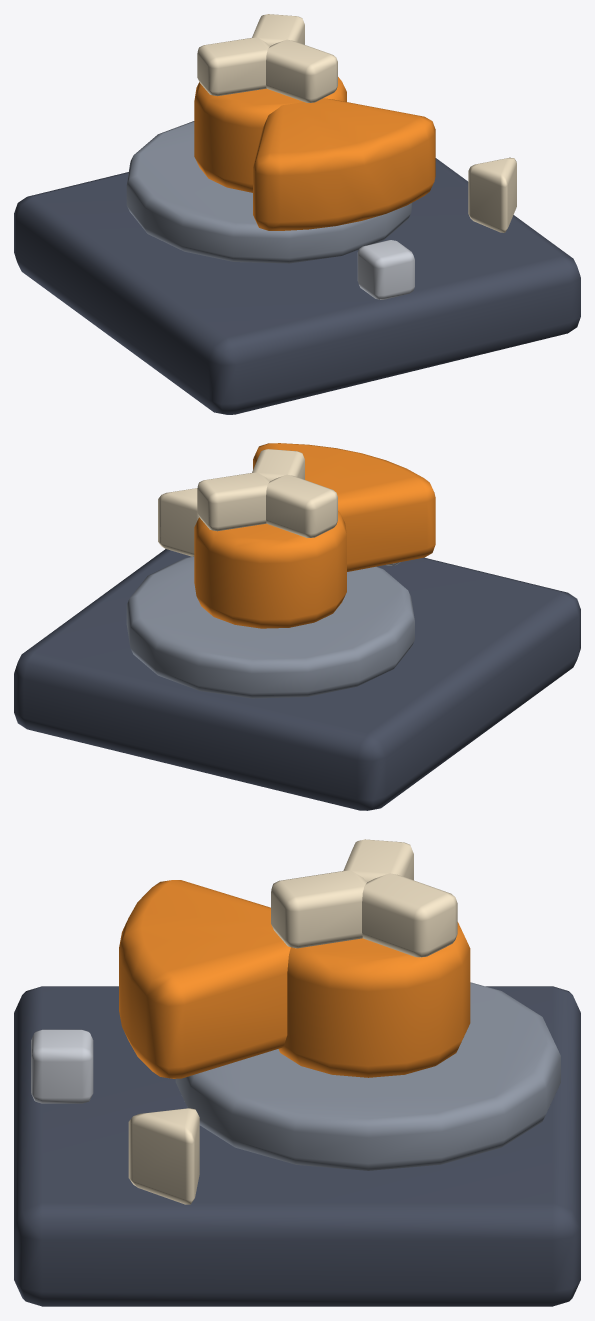
Rendered from Ctrl_Stir.fbx.
3 renders of one model, top to bottom at view 1: azimuth 30°, elevation 25°; view 2: azimuth 150°, elevation 25°; view 3: azimuth 270°, elevation 25°, orthographic. The views are drawn at different scales.
Parts seen in each view (by area): view 1: Ctrl_Stir.Base, Ctrl_Stir.Move_Knob, Ctrl_Stir.Dial, Ctrl_Stir.Marks; view 2: Ctrl_Stir.Base, Ctrl_Stir.Move_Knob, Ctrl_Stir.Dial, Ctrl_Stir.Marks; view 3: Ctrl_Stir.Base, Ctrl_Stir.Move_Knob, Ctrl_Stir.Dial, Ctrl_Stir.Marks.
Part boxes in pixels (x1,y1,x2,y2): Ctrl_Stir.Base: (14, 158, 580, 414); Ctrl_Stir.Move_Knob: (194, 14, 435, 230); Ctrl_Stir.Dial: (126, 121, 412, 263); Ctrl_Stir.Marks: (357, 157, 516, 299); Ctrl_Stir.Base: (14, 549, 580, 810); Ctrl_Stir.Move_Knob: (194, 443, 435, 628); Ctrl_Stir.Dial: (126, 556, 414, 698); Ctrl_Stir.Marks: (158, 488, 400, 565); Ctrl_Stir.Base: (14, 986, 580, 1306); Ctrl_Stir.Move_Knob: (119, 839, 470, 1078); Ctrl_Stir.Dial: (175, 982, 560, 1170); Ctrl_Stir.Marks: (31, 1029, 199, 1204).
Size of the model in its own units: 0.2 by 0.125 by 0.2.
1 material, 1 textured.
